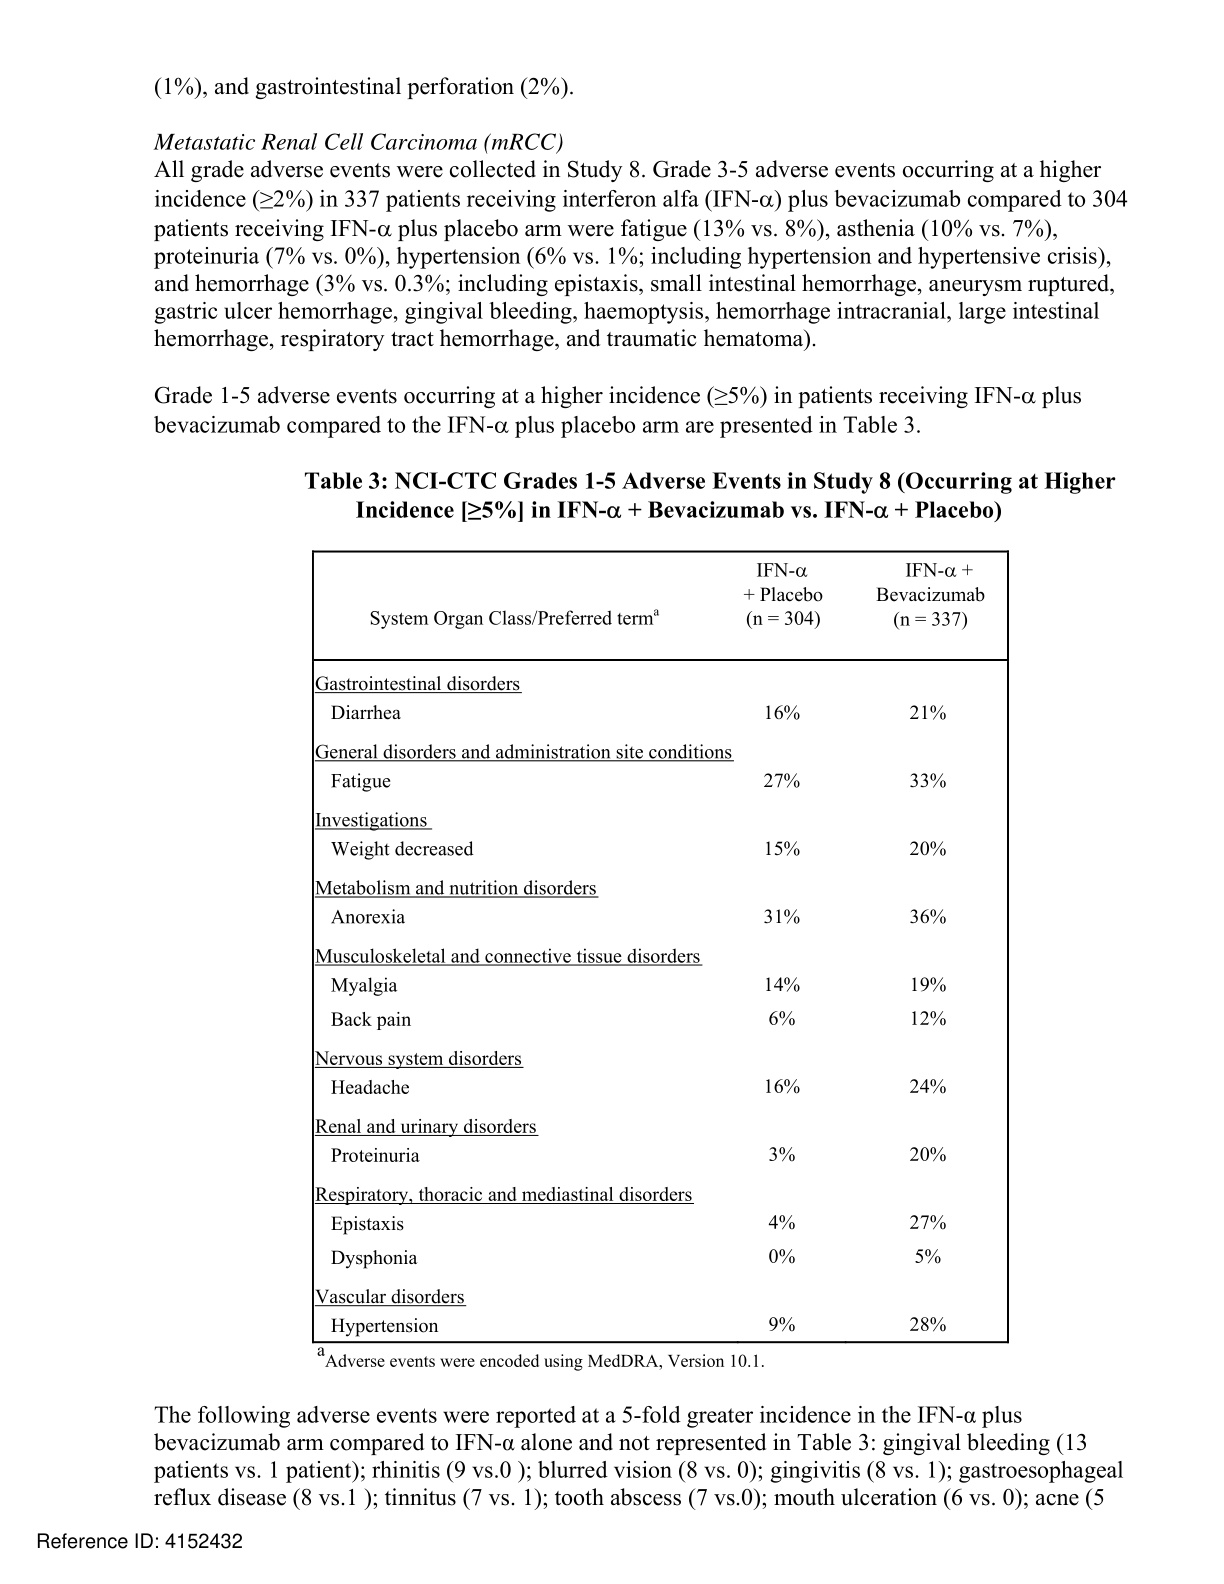partial_lined_merged_cells: (311, 549, 1011, 1344)
